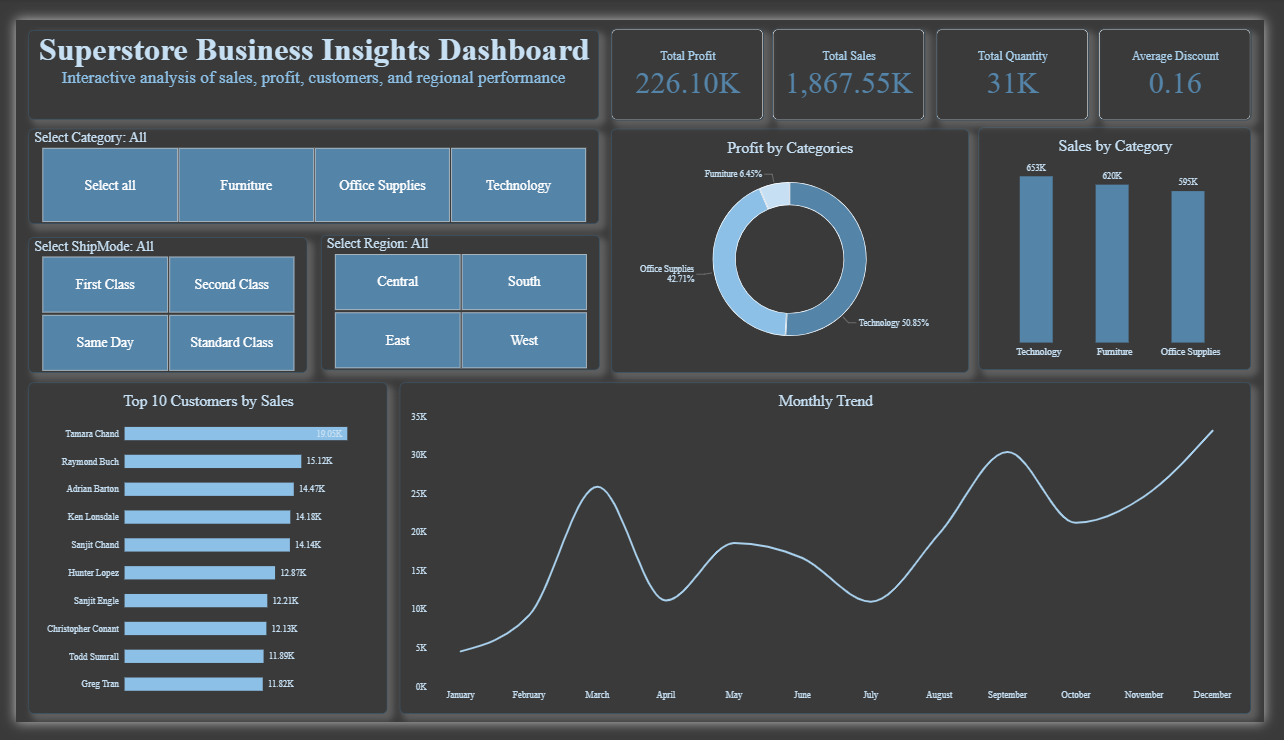

This screenshot's page, from the dashboard's own definition file:
{"tool":"powerbi","page":{"name":"Dashboard","canvas":[1920,1080],"ordinal":0},"visuals":[{"type":"cardVisual","fields":{"Data":["Avg(Sample_Superstore.Discount)"]},"box":[1665,12.7,235.1,141.2],"z":0,"group":"g1"},{"type":"columnChart","title":"Sales by Category","fields":{"Category":["Sample_Superstore.Category"],"Y":["Sum(Sample_Superstore.Sales)"]},"box":[1480.8,165.4,419.2,373.1],"z":0},{"type":"cardVisual","fields":{"Data":["Sum(Sample_Superstore.Quantity)"]},"box":[1416.5,12.7,235.1,141.2],"z":1000,"group":"g1"},{"type":"cardVisual","fields":{"Data":["Sum(Sample_Superstore.Sales)"]},"box":[1164.2,12.7,235.1,141.2],"z":2000,"group":"g1"},{"type":"lineChart","title":"Monthly Trend","fields":{"Category":["Sample_Superstore.Order Date.Variation.Date Hierarchy.Month"],"Y":["Sum(Sample_Superstore.Profit)"]},"box":[590.4,557.7,1309.6,509.6],"z":2000},{"type":"cardVisual","fields":{"Data":["Sum(Sample_Superstore.Profit)"]},"box":[915.7,12.7,235.1,141.2],"z":3000,"group":"g1"},{"type":"donutChart","title":"Profit by Categories","fields":{"Category":["Sample_Superstore.Category"],"Y":["Sum(Sample_Superstore.Profit)"]},"box":[915.4,167.3,550,375],"z":3000},{"type":"clusteredBarChart","title":"Top 10 Customers by Sales ","fields":{"Category":["Sample_Superstore.Customer Name"],"Y":["Sum(Sample_Superstore.Sales)"]},"box":[19.2,557.7,551.9,509.6],"z":4000},{"type":"slicer","fields":{"Values":["Sample_Superstore.Region"]},"box":[468.7,331.2,428.9,208.1],"z":5000},{"type":"slicer","fields":{"Values":["Sample_Superstore.Category"]},"box":[19.9,166.5,877.7,146.6],"z":6000},{"type":"slicer","fields":{"Values":["Sample_Superstore.Ship Mode"]},"box":[19.2,334.6,428.8,207.7],"z":7000},{"type":"group","id":"g1","title":"Group 1","box":[915.7,12.7,984.5,141.2],"z":8000},{"type":"textbox","title":"Superstore Business Insights Dashboard","box":[19.9,16.3,877.7,137.5],"z":9000}]}

Visuals, with their boxes in screenshot pixels (x1, y1, x2, y2), scaled from the page's 1920x1080 canvas onto the 1284x740 screenshot:
cardVisual - Avg(Sample_Superstore.Discount): (x1=1113, y1=9, x2=1271, y2=105)
"Sales by Category" columnChart: (x1=990, y1=113, x2=1271, y2=369)
cardVisual - Sum(Sample_Superstore.Quantity): (x1=947, y1=9, x2=1105, y2=105)
cardVisual - Sum(Sample_Superstore.Sales): (x1=779, y1=9, x2=936, y2=105)
"Monthly Trend" lineChart: (x1=395, y1=382, x2=1271, y2=731)
cardVisual - Sum(Sample_Superstore.Profit): (x1=612, y1=9, x2=770, y2=105)
"Profit by Categories" donutChart: (x1=612, y1=115, x2=980, y2=372)
"Top 10 Customers by Sales " clusteredBarChart: (x1=13, y1=382, x2=382, y2=731)
slicer - Sample_Superstore.Region: (x1=313, y1=227, x2=600, y2=370)
slicer - Sample_Superstore.Category: (x1=13, y1=114, x2=600, y2=215)
slicer - Sample_Superstore.Ship Mode: (x1=13, y1=229, x2=300, y2=372)
"Group 1" group: (x1=612, y1=9, x2=1271, y2=105)
"Superstore Business Insights Dashboard" textbox: (x1=13, y1=11, x2=600, y2=105)
